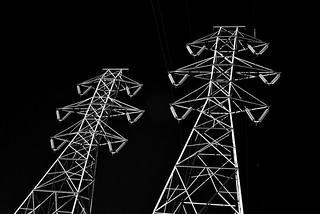power_tower: (152, 23, 284, 214), (12, 64, 146, 214)
